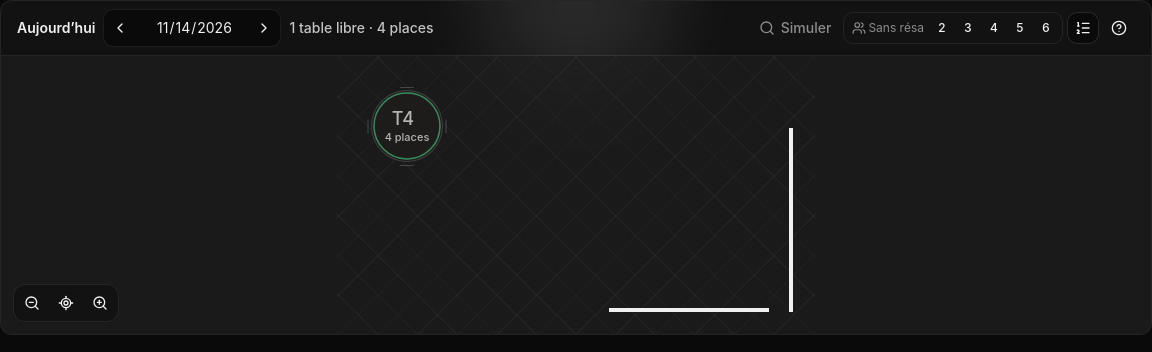
Test: FloorPlanCanvas — taille des tables › annonce la combinaison et la détaille dans la fiche
Click the button with aria-label "T4 · 4 places" at {"x": 407, "y": 126}, box [375, 94, 439, 158]
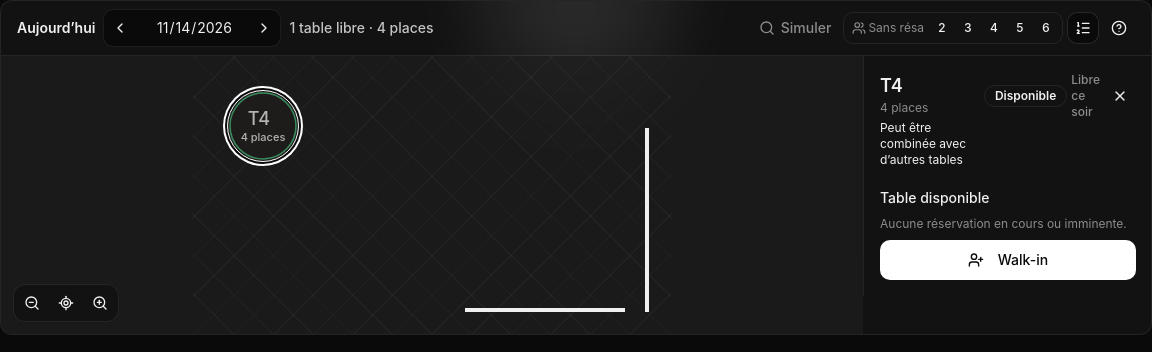
Expected: the text "Peut être combinée avec d’autres tables" is shown, [880, 120, 972, 168]
